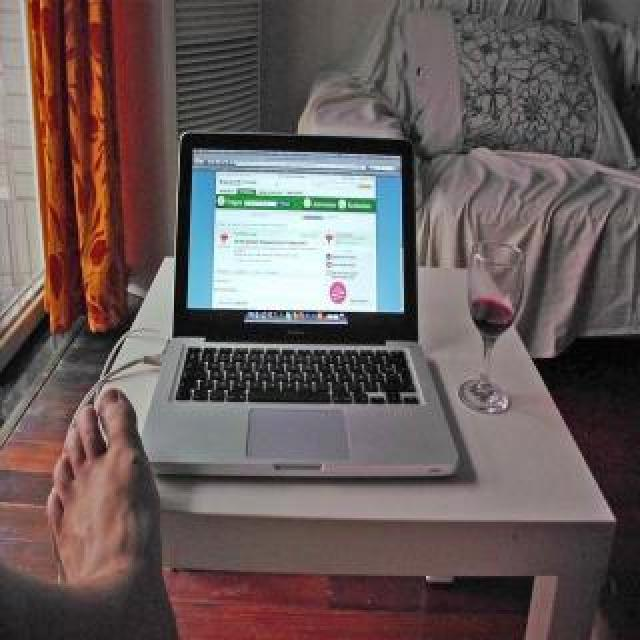laptop_computer: (134, 94, 472, 512)
